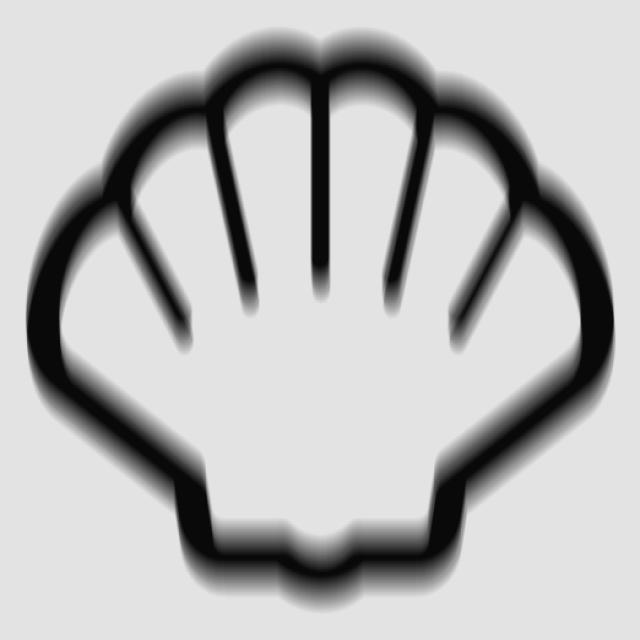shell: (10, 15, 628, 631)
